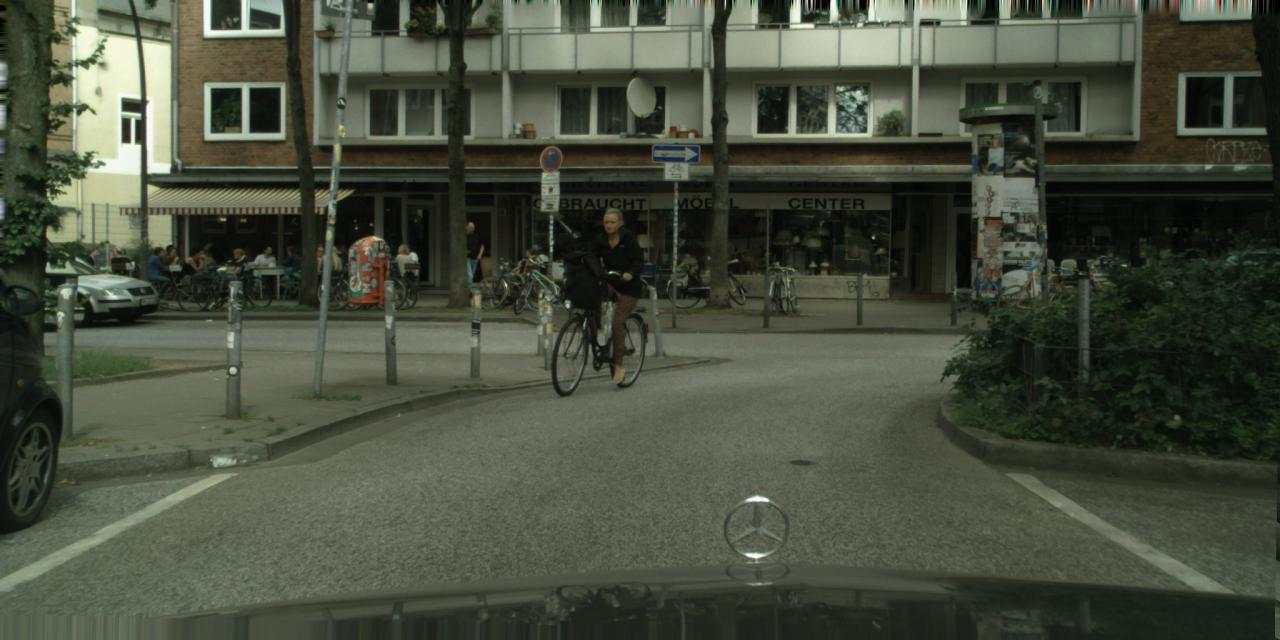ped: (578, 207, 638, 357), (454, 222, 484, 296)
